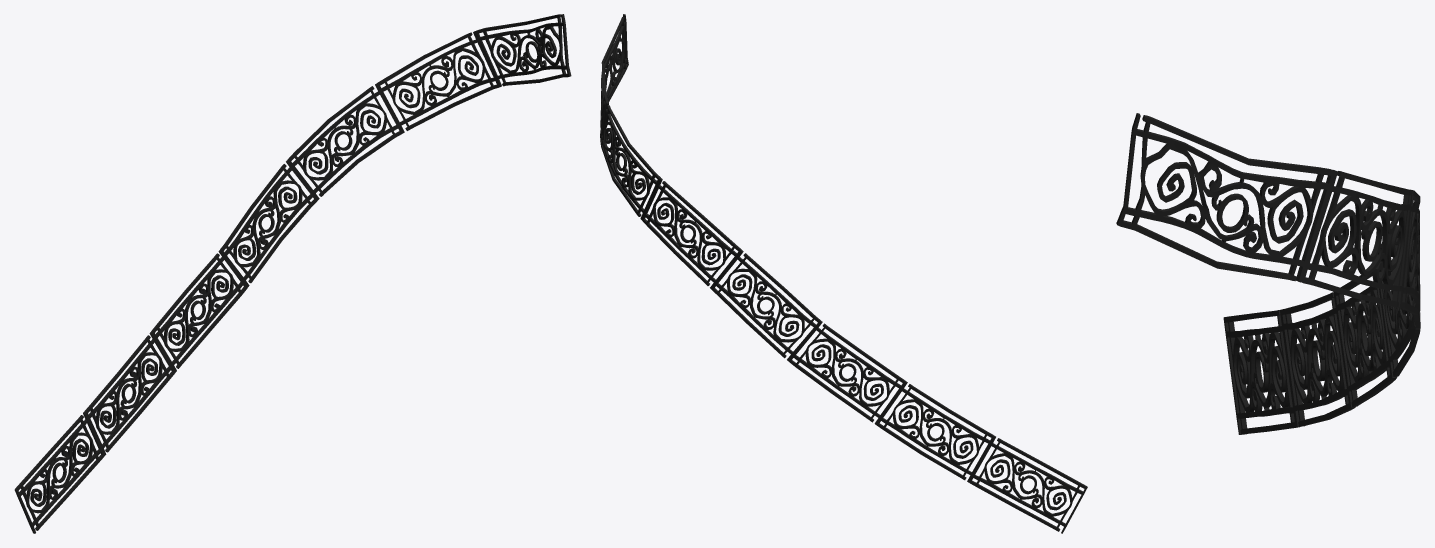
The model's file is Railing11.fbx.
3 renders of one model, left to right at view 1: azimuth 30°, elevation 25°; view 2: azimuth 150°, elevation 25°; view 3: azimuth 270°, elevation 25°, orthographic. The views are drawn at different scales.
Parts seen in each view (by area): view 1: railing11; view 2: railing11; view 3: railing11.
Part boxes in pixels (x1,y1,x2,y2): railing11: (14,14,571,533); railing11: (600,14,1087,533); railing11: (1116,113,1420,434).
Bounding box in the file's own units: 18.95 × 14.35 × 5.11.
